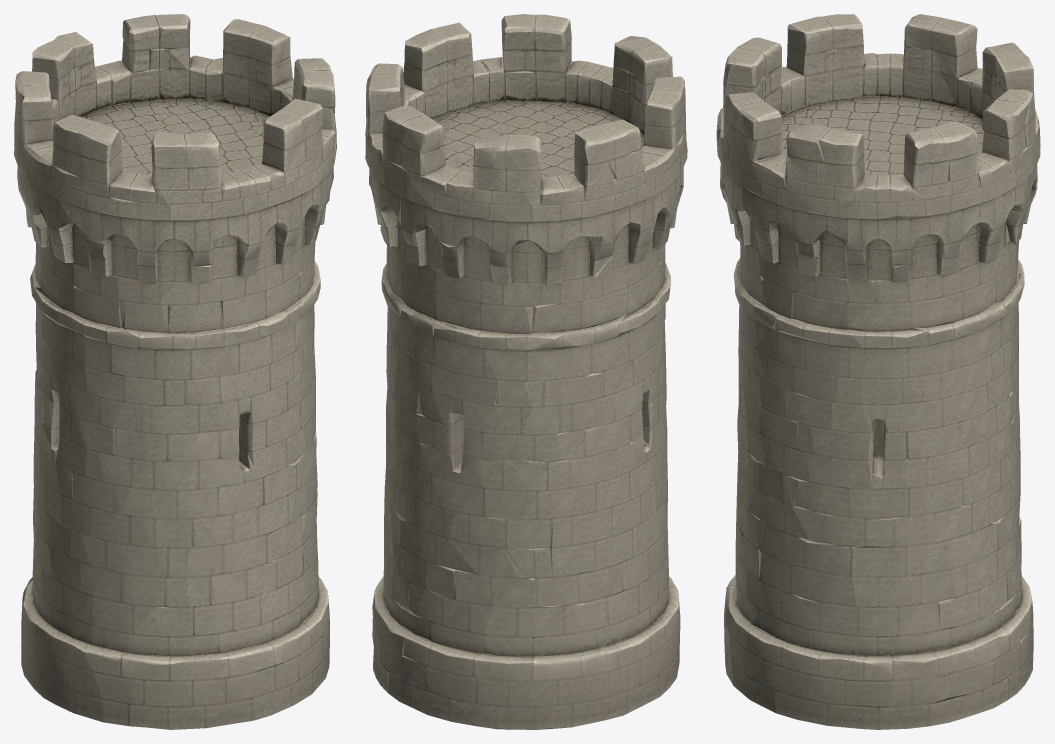
File: wall_tower.glb
3 renders of one model, left to right at view 1: azimuth 30°, elevation 25°; view 2: azimuth 150°, elevation 25°; view 3: azimuth 270°, elevation 25°, orthographic.
Parts seen in each view (by area): view 1: output_unwrapped; view 2: output_unwrapped; view 3: output_unwrapped.
Part boxes in pixels (x1,y1,x2,y2): output_unwrapped: [14, 14, 336, 729]; output_unwrapped: [365, 14, 687, 729]; output_unwrapped: [716, 14, 1040, 729].
Size of the model in its own units: 0.945 by 1.9 by 0.9471.
Materials: 1 (1 with a texture image).
